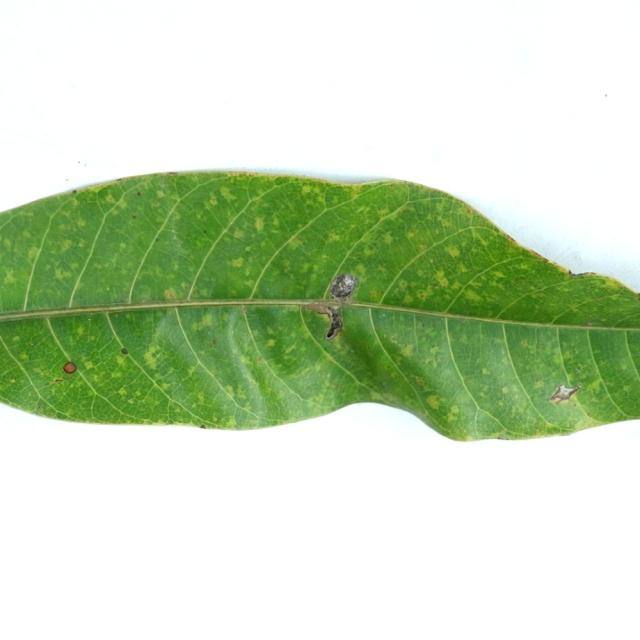Mango: (0, 172, 639, 441)
Powdery_Mildew: (188, 312, 221, 334), (584, 377, 605, 396), (431, 270, 450, 288), (142, 350, 160, 368), (444, 246, 467, 260), (463, 289, 483, 303), (54, 266, 71, 281), (425, 395, 441, 410), (446, 407, 461, 423), (220, 186, 235, 201), (401, 343, 416, 358), (444, 245, 461, 258), (4, 271, 18, 285), (369, 391, 386, 402), (326, 231, 341, 243), (553, 352, 566, 365), (396, 280, 409, 293), (60, 239, 73, 251), (27, 247, 39, 260), (354, 263, 366, 276), (230, 257, 244, 268), (254, 216, 264, 231), (164, 288, 176, 300), (381, 233, 394, 244), (417, 291, 430, 302), (207, 195, 218, 207), (519, 339, 532, 349), (104, 193, 116, 203), (429, 346, 441, 356), (232, 230, 244, 240), (75, 325, 85, 336), (301, 186, 313, 195), (225, 386, 235, 396), (265, 339, 276, 348), (533, 380, 544, 389), (117, 388, 127, 397), (237, 390, 246, 400), (196, 393, 205, 402), (459, 335, 468, 344), (415, 376, 424, 385), (19, 353, 29, 361), (623, 385, 633, 393), (12, 335, 21, 343), (418, 243, 427, 251), (482, 367, 490, 375), (502, 386, 510, 394), (119, 243, 127, 250), (84, 361, 92, 368), (134, 390, 142, 397), (267, 328, 275, 335), (128, 399, 135, 404), (10, 378, 16, 383), (213, 417, 218, 422)
